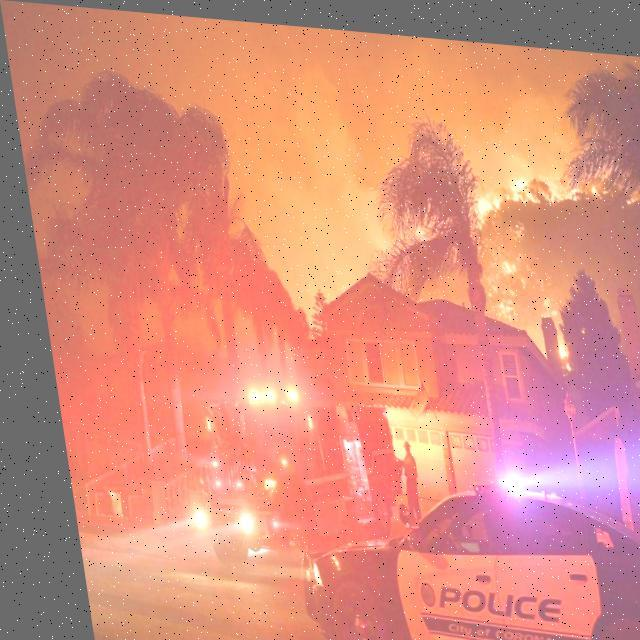Fire: (464, 161, 618, 313)
